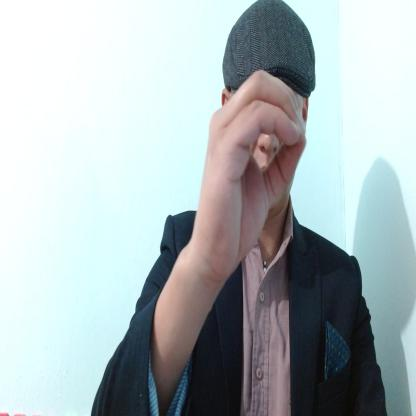O: (196, 71, 307, 272)
